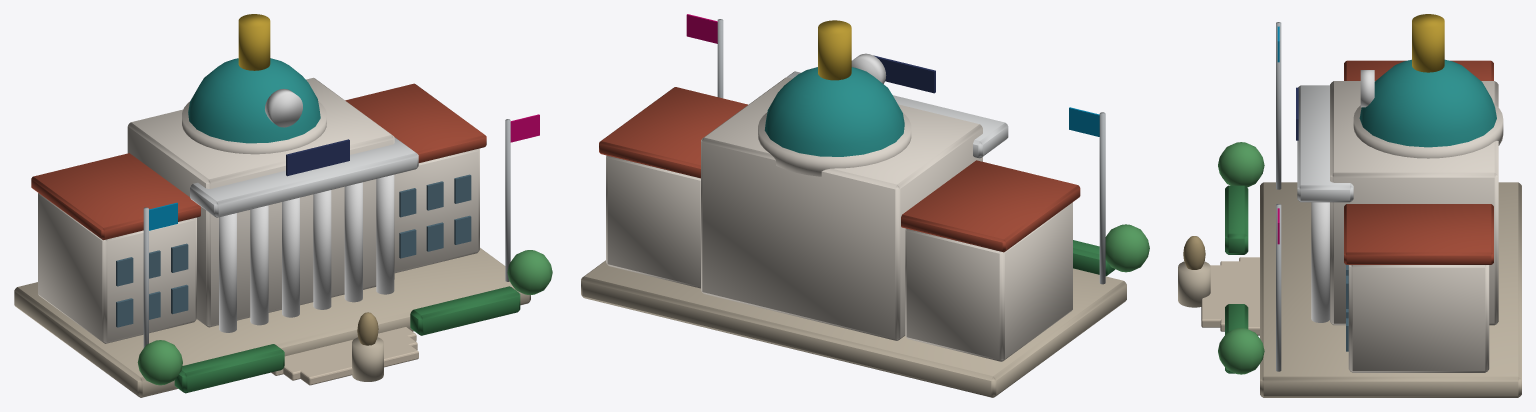
The picture shows the model from 3 angles, left to right: view 1: azimuth 30°, elevation 25°; view 2: azimuth 150°, elevation 25°; view 3: azimuth 270°, elevation 25°; orthographic projection. The views are drawn at different scales.
Parts seen in each view (by area): view 1: lm_16; view 2: lm_16; view 3: lm_16.
Boxes of the visible parts, <box> form: lm_16: <box>14,14,552,397</box>; lm_16: <box>581,14,1149,397</box>; lm_16: <box>1178,14,1521,397</box>.
Bounding box in the file's own units: 1.06 × 0.66 × 0.735.
